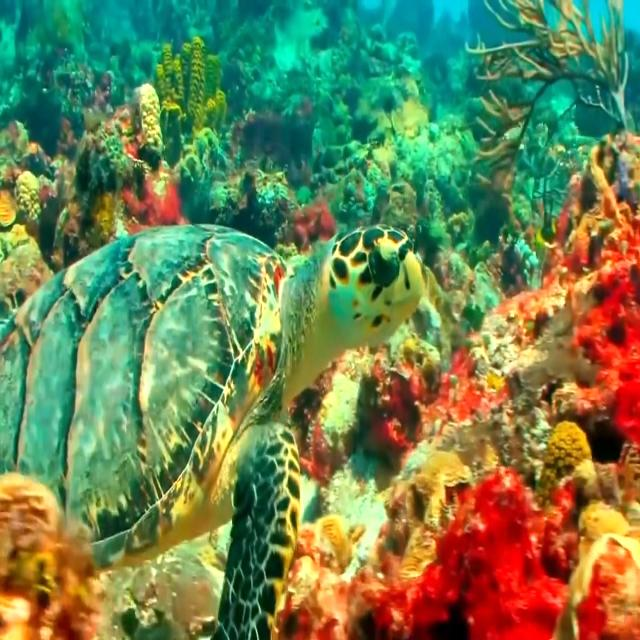Sea turtle: (0, 218, 430, 640)
